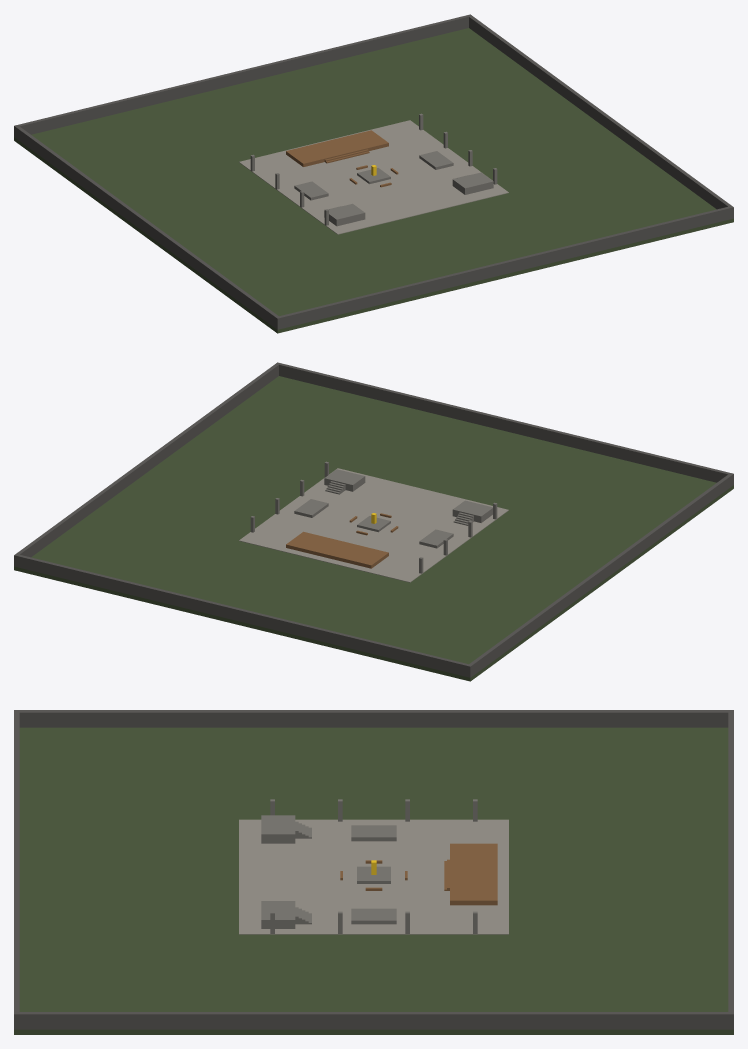
File: plaza.glb
The picture shows the model from 3 angles, top to bottom: view 1: azimuth 30°, elevation 25°; view 2: azimuth 150°, elevation 25°; view 3: azimuth 270°, elevation 25°; orthographic projection. The views are drawn at different scales.
Visible parts, largest first — view 1: ground, wall, paving, stone, wood; view 2: ground, wall, paving, stone, wood; view 3: ground, wall, paving, stone, wood.
Boxes of the visible parts, x1=… form: ground: x1=14, y1=28, x2=733, y2=333; wall: x1=14, y1=14, x2=733, y2=329; paving: x1=239, y1=120, x2=508, y2=234; stone: x1=250, y1=113, x2=497, y2=226; wood: x1=286, y1=130, x2=398, y2=187; ground: x1=14, y1=376, x2=733, y2=681; wall: x1=14, y1=362, x2=733, y2=677; paving: x1=239, y1=468, x2=508, y2=582; stone: x1=250, y1=461, x2=497, y2=573; wood: x1=286, y1=513, x2=398, y2=568; ground: x1=14, y1=727, x2=733, y2=1034; wall: x1=14, y1=710, x2=733, y2=1029; paving: x1=239, y1=819, x2=508, y2=934; stone: x1=261, y1=799, x2=477, y2=933; wood: x1=340, y1=843, x2=497, y2=905.
Size of the model in its own units: 128 by 5.15 by 128.
